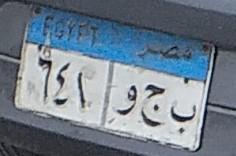0: (72, 60, 100, 121)
4: (51, 56, 73, 113)
6: (33, 50, 54, 107)
ب: (168, 91, 193, 141)
ج: (141, 76, 168, 132)
و: (102, 83, 144, 123)
